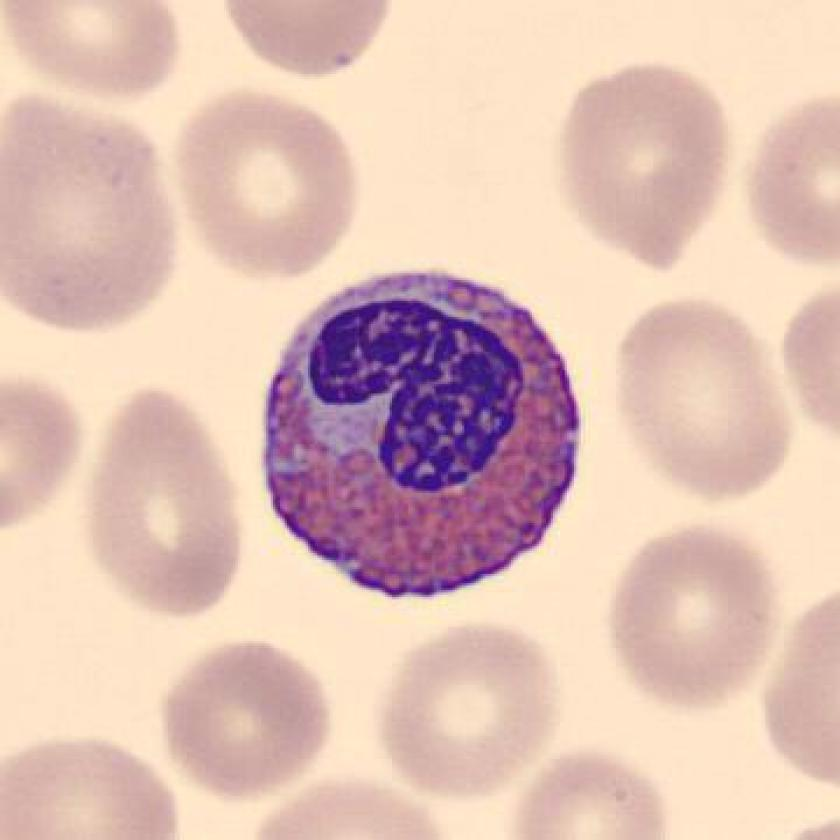eosinophil: (251, 258, 596, 612)
